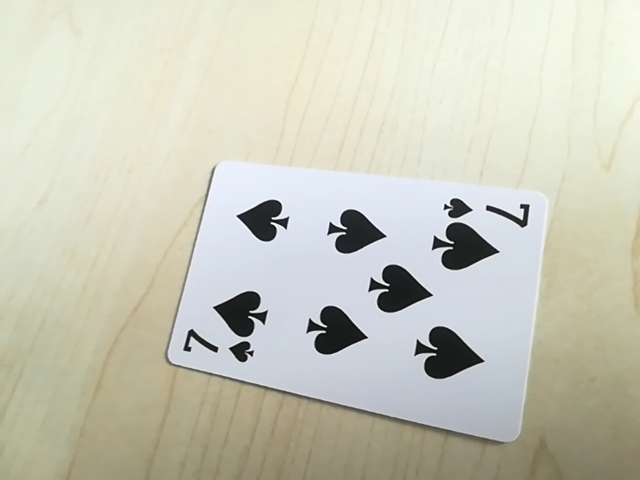ht 7: (438, 193, 536, 226), (174, 332, 265, 366)
